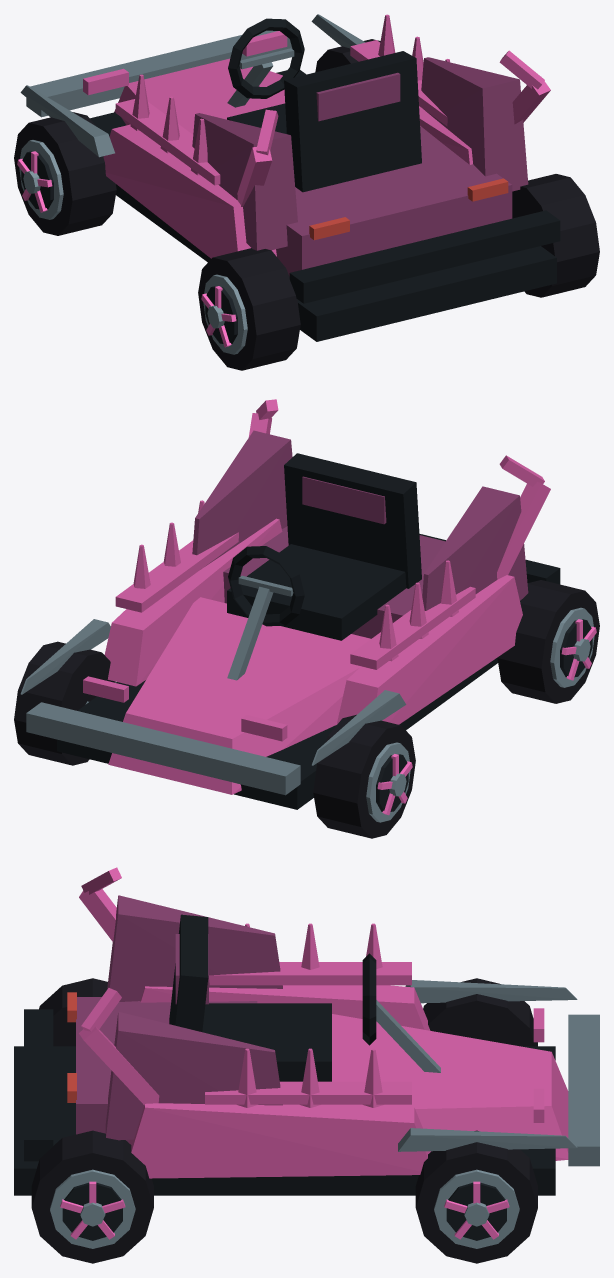
The model's file is kart.glb.
The picture shows the model from 3 angles, top to bottom: view 1: azimuth 30°, elevation 25°; view 2: azimuth 150°, elevation 25°; view 3: azimuth 270°, elevation 25°; orthographic projection. The views are drawn at different scales.
Parts seen in each view (by area): view 1: chassis, wheel-rear-left, wheel-front-left, wheel-rear-right, wheel-front-right; view 2: chassis, wheel-front-left, wheel-rear-left, wheel-front-right; view 3: chassis, wheel-rear-right, wheel-front-right, wheel-front-left, wheel-rear-left.
Boxes of the visible parts, <box> form: chassis: <box>20,14,560,341</box>; wheel-rear-left: <box>198,248,300,370</box>; wheel-front-left: <box>14,112,116,235</box>; wheel-rear-right: <box>512,174,599,297</box>; wheel-front-right: <box>315,39,380,72</box>; chassis: <box>20,399,560,809</box>; wheel-front-left: <box>313,714,415,838</box>; wheel-rear-left: <box>497,580,599,703</box>; wheel-front-right: <box>14,641,115,765</box>; chassis: <box>14,867,599,1195</box>; wheel-rear-right: <box>31,1130,153,1263</box>; wheel-front-right: <box>415,1130,537,1263</box>; wheel-front-left: <box>423,978,537,1046</box>; wheel-rear-left: <box>39,978,107,1046</box>.
Bounding box in the file's own units: 2.27 × 1.38 × 2.98.
